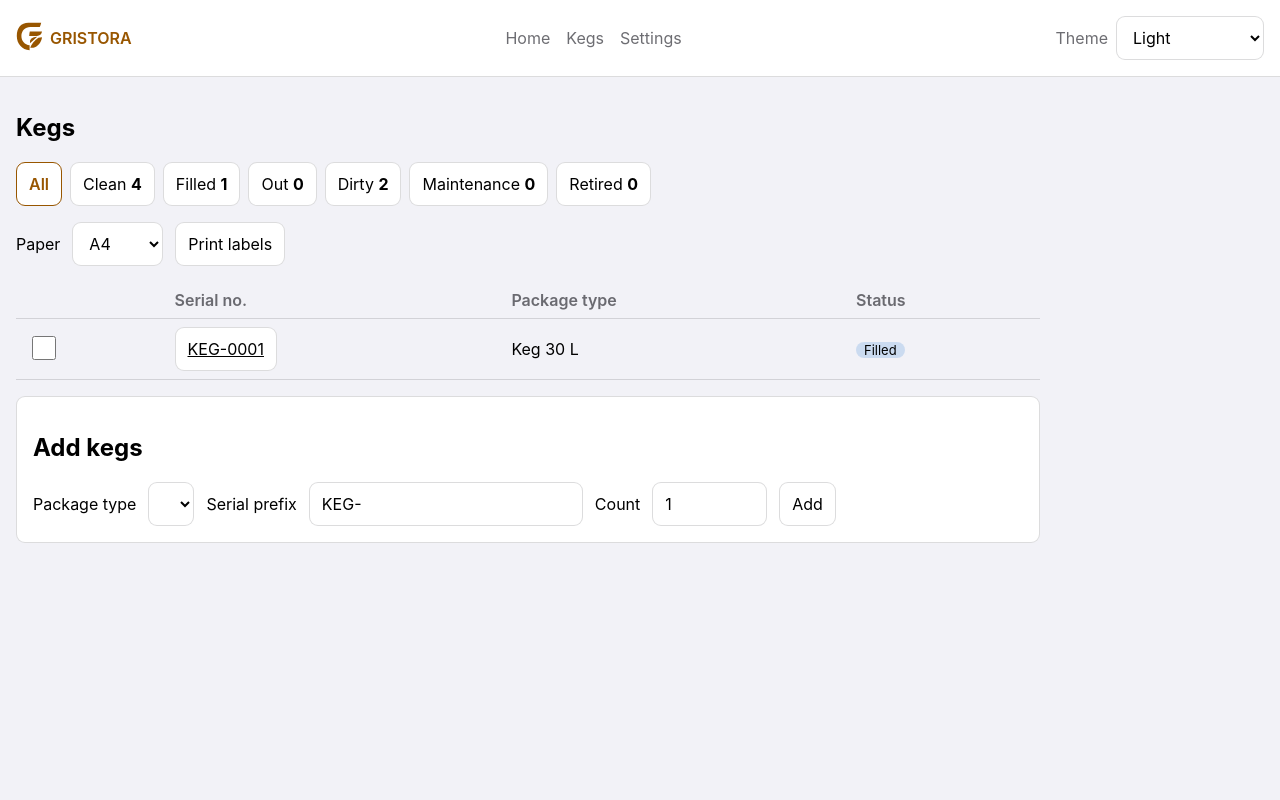
Scenario: containers screen › shows the detail with the event log
This screenshot has width=1280, height=800.
Click the button "KEG-0001" at coordinates (226, 349), box [174,327,277,371]
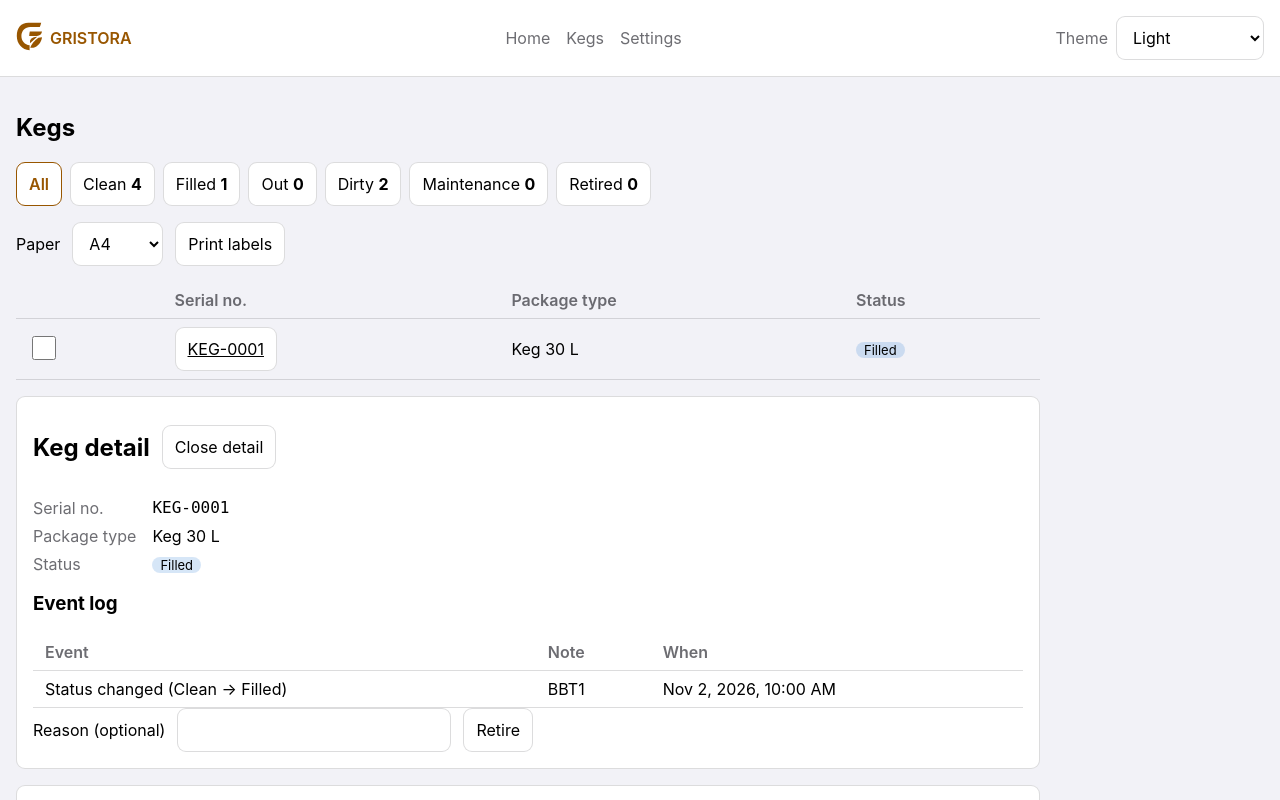
Expected: the text "Status changed (Clean → Filled)" is shown, [33,671,536,708]
Expected: the text "BBT1" is shown, [536,671,651,708]
